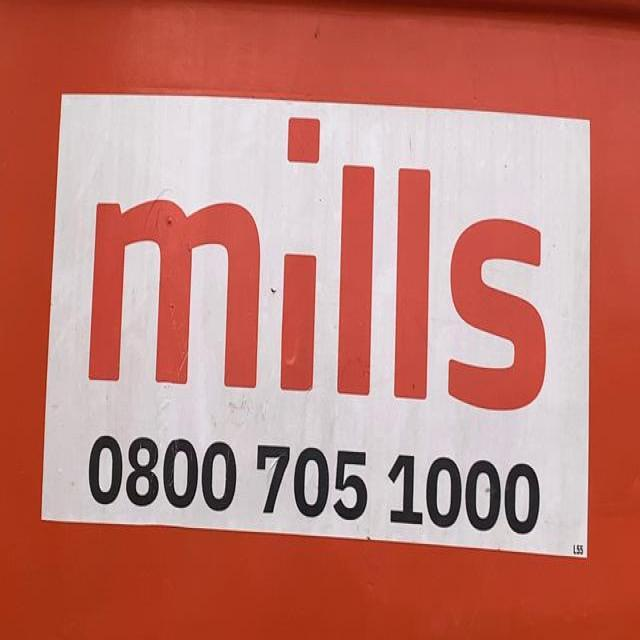Adesivos: (23, 76, 603, 573)
